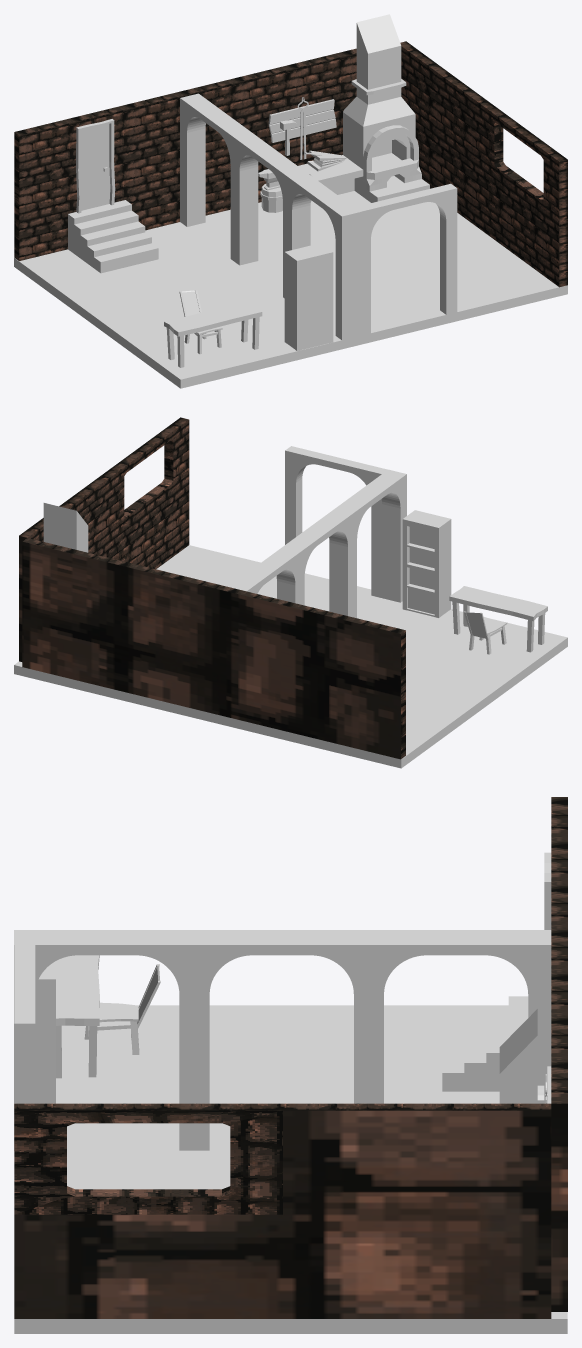
File: Level-1 1.fbx
3 renders of one model, top to bottom at view 1: azimuth 30°, elevation 25°; view 2: azimuth 150°, elevation 25°; view 3: azimuth 270°, elevation 25°, orthographic. The views are drawn at different scales.
Parts seen in each view (by area): view 1: Isometric-View, Isometric-View.001, Cube, Arc-To-Room.001, Arc-To-Room.003, Bookshelf_Thin, Arc-To-Room, Staircase, Arc-To-Room.002, Table, Door, Tool_Shelf (+4 smaller); view 2: Isometric-View, Isometric-View.001, Bookshelf_Thin, Arc-To-Room.001, Arc-To-Room, Arc-To-Room.002, Table, Arc-To-Room.003, Cube, Chair; view 3: Isometric-View, Isometric-View.001, Arc-To-Room.003, Arc-To-Room.002, Arc-To-Room.001, Staircase, Table, Arc-To-Room, Cube, Bookshelf_Thin, Chair.
Boxes of the visible parts, x1,y1,x2,y2 form: Isometric-View: (14, 41, 567, 287); Isometric-View.001: (14, 191, 567, 388); Cube: (298, 14, 429, 202); Arc-To-Room.001: (289, 173, 360, 340); Arc-To-Room.003: (180, 93, 254, 263); Bookshelf_Thin: (284, 243, 333, 350); Arc-To-Room: (354, 183, 457, 335); Staircase: (68, 200, 158, 273); Arc-To-Room.002: (237, 135, 307, 298); Table: (164, 301, 262, 367); Door: (81, 124, 110, 210); Tool_Shelf: (268, 99, 336, 142); Isometric-View: (19, 417, 405, 759); Isometric-View.001: (14, 545, 567, 768); Bookshelf_Thin: (402, 510, 451, 617); Arc-To-Room.001: (336, 469, 406, 618); Arc-To-Room: (285, 446, 387, 597); Arc-To-Room.002: (283, 508, 354, 617); Table: (449, 586, 547, 652); Arc-To-Room.003: (228, 546, 301, 604); Cube: (43, 503, 88, 552); Chair: (464, 611, 507, 654); Isometric-View: (14, 797, 567, 1318); Isometric-View.001: (14, 1005, 567, 1333); Arc-To-Room.003: (362, 930, 551, 1103); Arc-To-Room.002: (188, 930, 362, 1150); Arc-To-Room.001: (14, 930, 188, 1150); Staircase: (442, 996, 528, 1091); Table: (56, 955, 99, 1078); Arc-To-Room: (14, 945, 35, 1103); Cube: (499, 1009, 537, 1103); Bookshelf_Thin: (35, 961, 55, 1103); Chair: (84, 964, 160, 1056).
Bounding box in the file's own units: 1344 × 562 × 1002.
